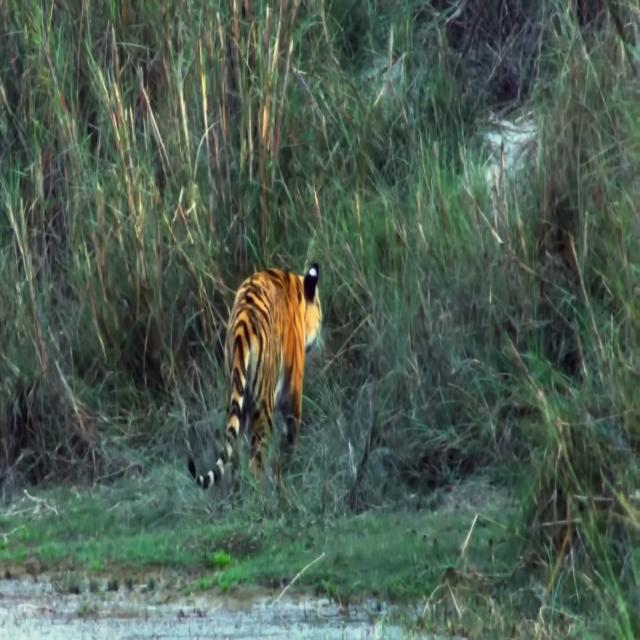tiger: (183, 260, 325, 490)
